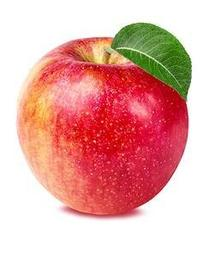apple: (15, 23, 190, 215)
